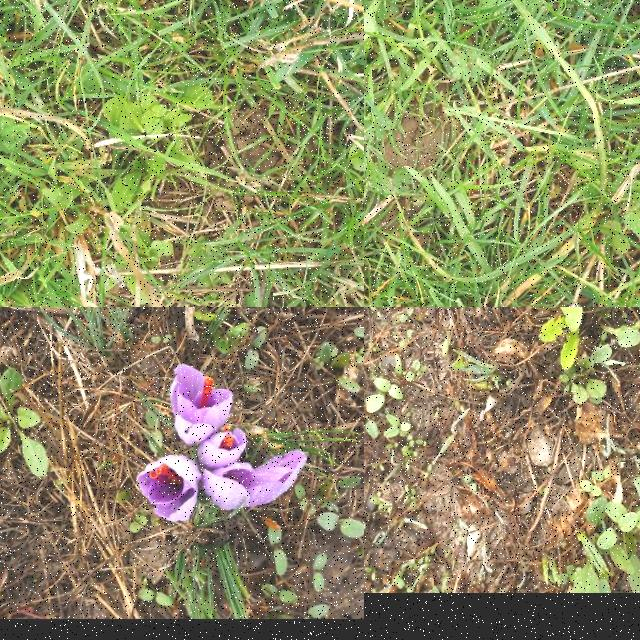flower: (202, 451, 306, 511), (170, 364, 234, 446), (138, 455, 202, 523), (198, 427, 248, 468)
